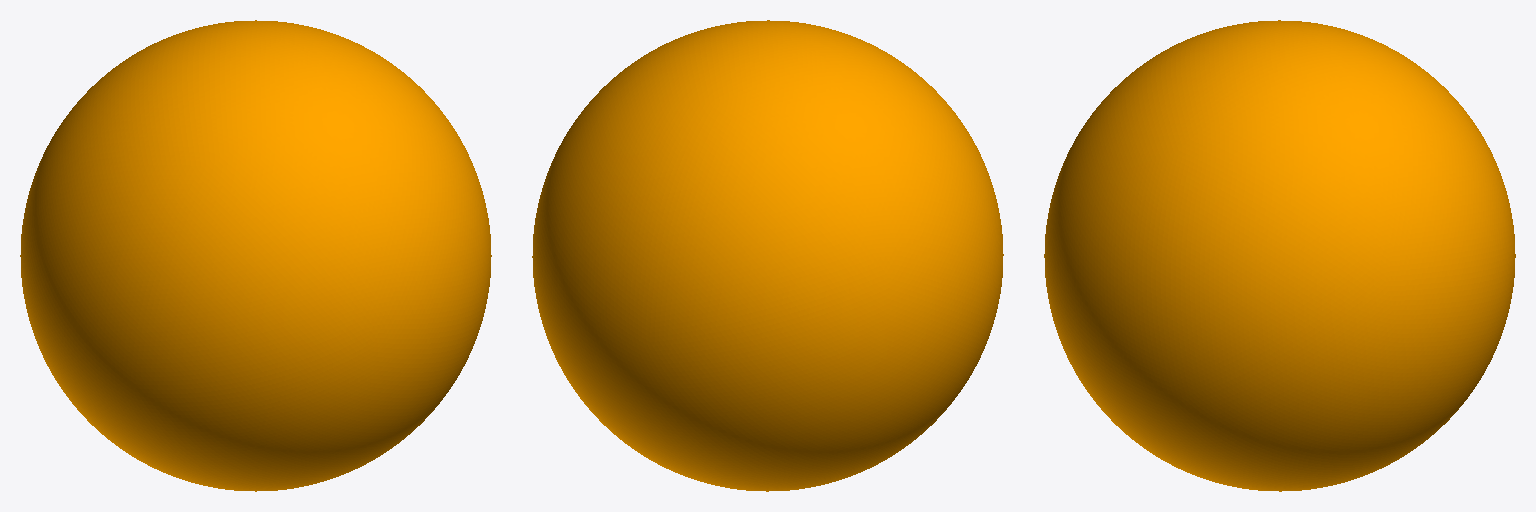
Rendered from sphere_gold.obj.
The picture shows the model from 3 angles: view 1: azimuth 30°, elevation 25°; view 2: azimuth 150°, elevation 25°; view 3: azimuth 270°, elevation 25°; orthographic projection.
Parts seen in each view (by area): view 1: mesh_0; view 2: mesh_0; view 3: mesh_0.
Boxes of the visible parts, x1,y1,x2,y2 form: mesh_0: [20, 20, 491, 491]; mesh_0: [532, 20, 1003, 491]; mesh_0: [1044, 20, 1515, 491].
Size of the model in its own units: 1 by 1 by 1.